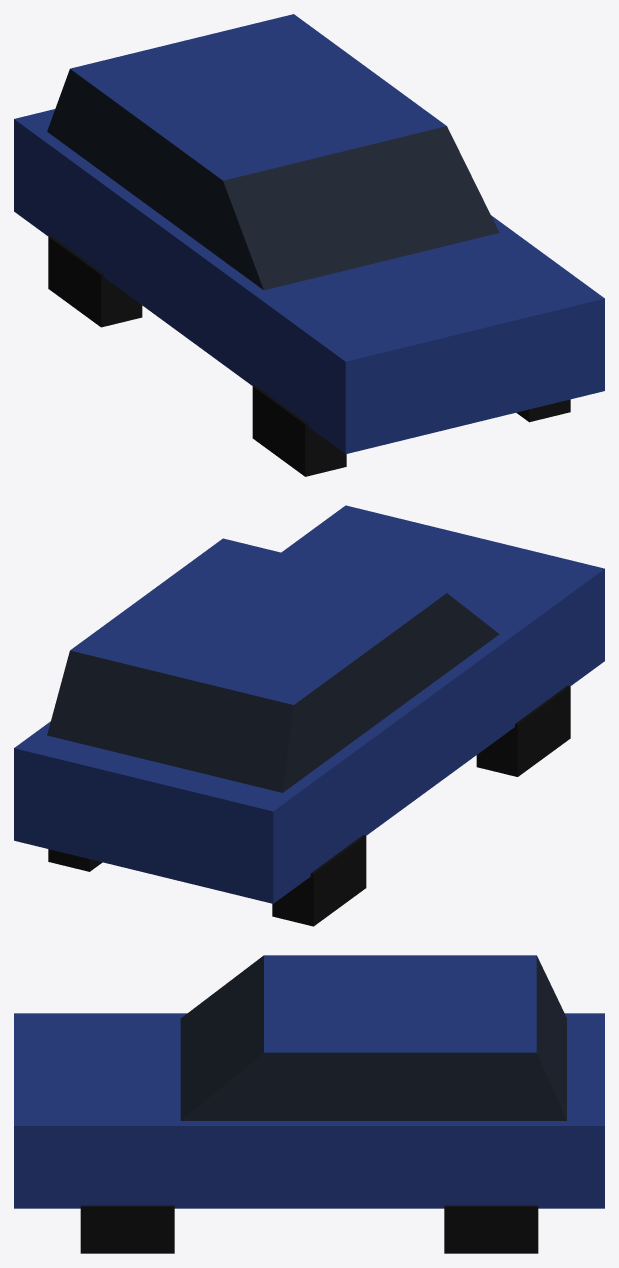
The model's file is car_hatchback_blue.obj.
3 views of the same model, one above another, from view 1: azimuth 30°, elevation 25°; view 2: azimuth 150°, elevation 25°; view 3: azimuth 270°, elevation 25° (orthographic). The views are drawn at different scales.
Parts seen in each view (by area): view 1: car_hatchback_blue; view 2: car_hatchback_blue; view 3: car_hatchback_blue.
Boxes of the visible parts, <box> form: car_hatchback_blue: <box>14,14,604,476</box>; car_hatchback_blue: <box>14,505,604,926</box>; car_hatchback_blue: <box>14,955,604,1253</box>.
Bounding box in the file's own units: 1.8 × 1.4 × 3.9.
